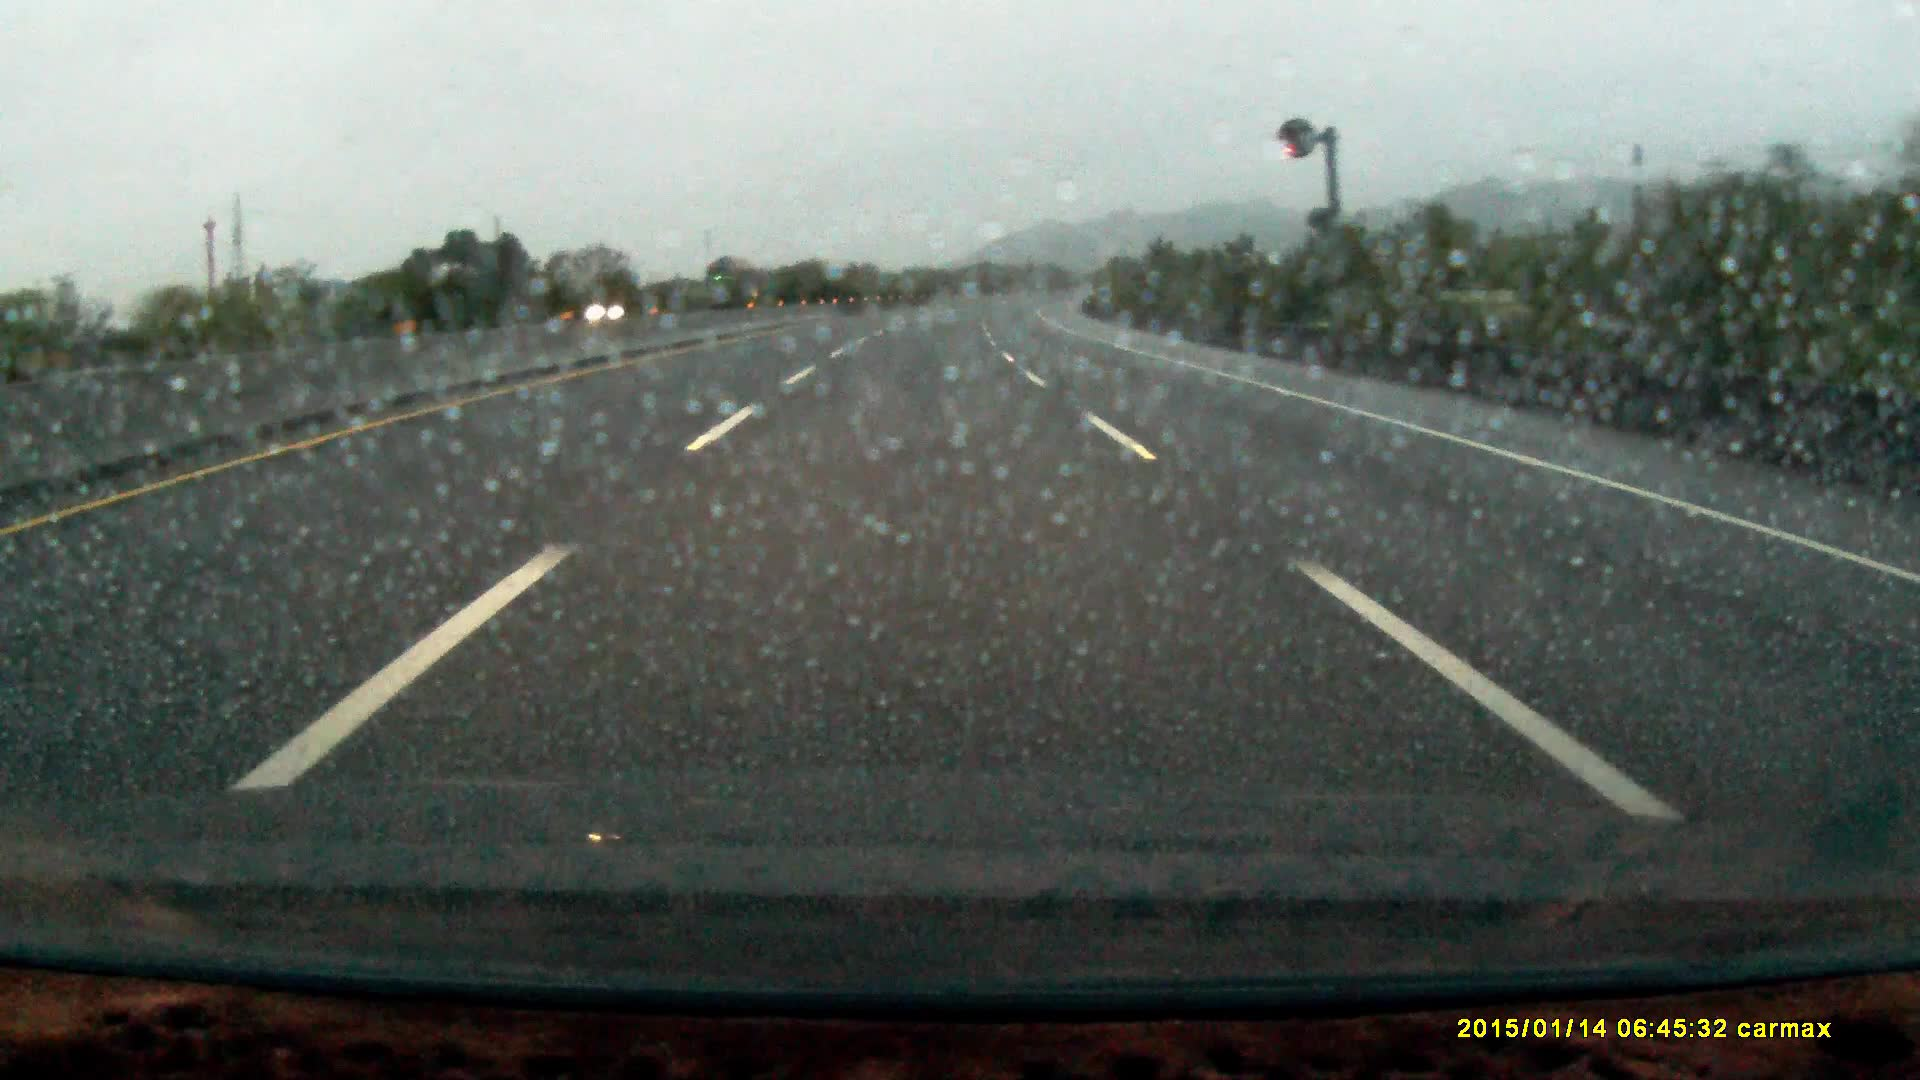vehicle: (696, 258, 750, 306), (584, 289, 644, 316)
